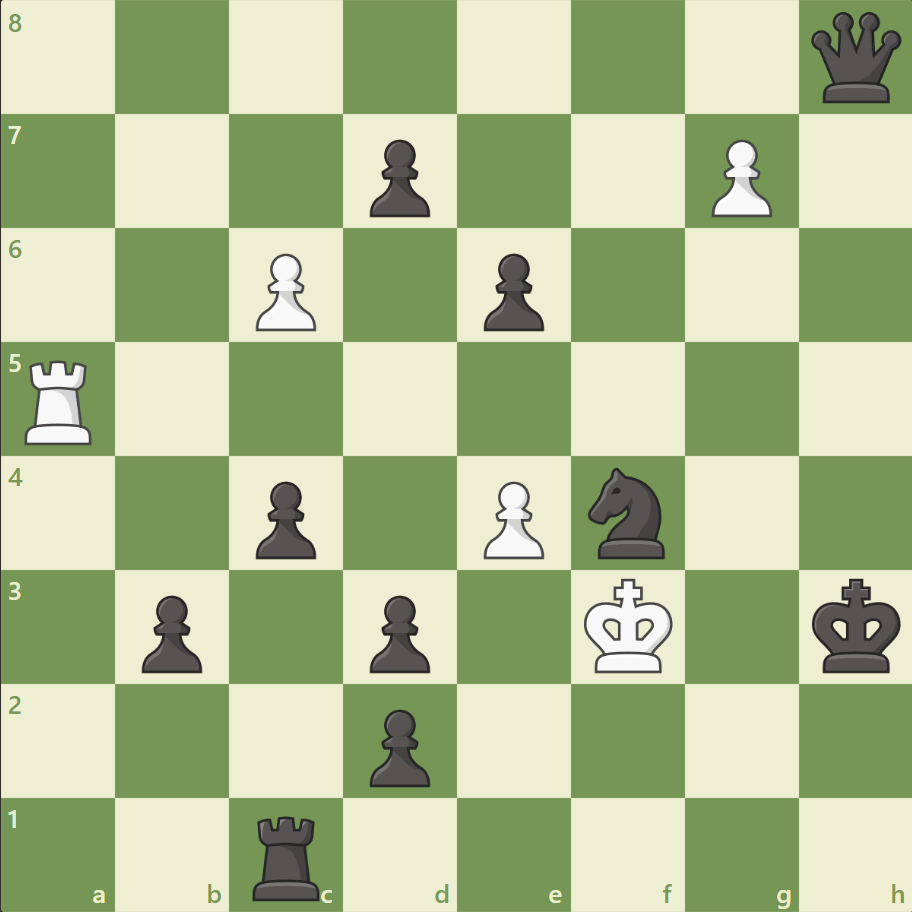K: (579, 571, 679, 679)
P: (701, 132, 776, 223), (247, 246, 322, 337), (474, 473, 549, 564)
R: (19, 352, 102, 449)
k: (806, 571, 906, 679)
n: (579, 461, 676, 564)
p: (474, 246, 549, 337), (247, 473, 322, 564), (133, 586, 208, 677), (361, 132, 435, 223), (361, 586, 435, 677), (361, 700, 435, 791)
q: (805, 9, 904, 108)
r: (246, 806, 329, 904)
